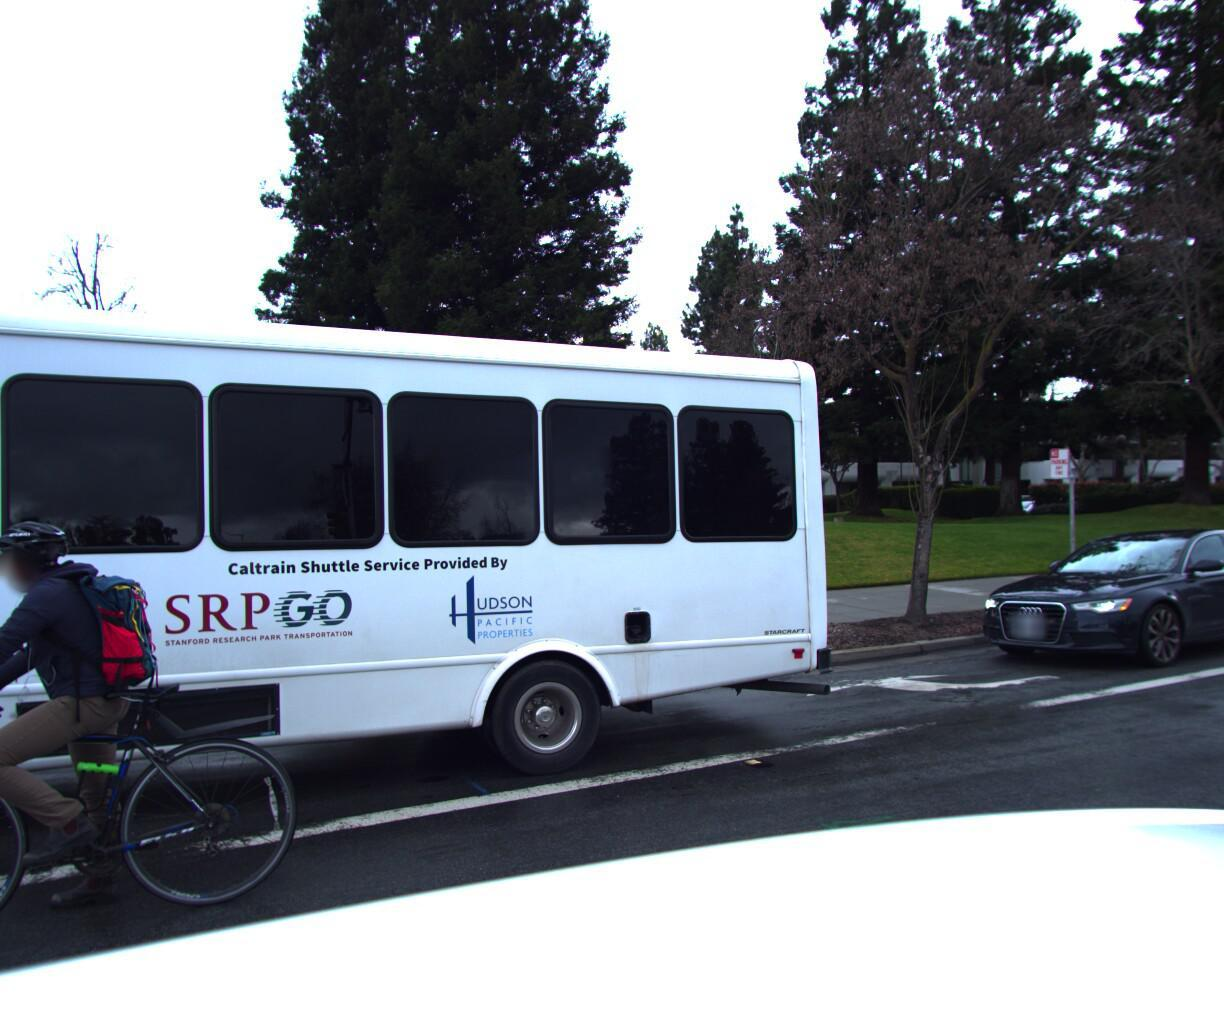bicycle: (0, 485, 325, 1024)
bus: (0, 206, 838, 1024)
car: (954, 526, 1224, 681)
